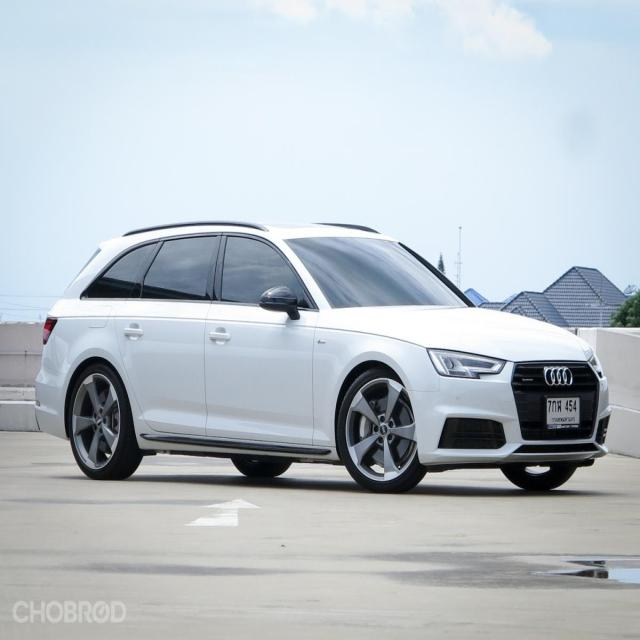license_plate: (543, 392, 585, 431)
